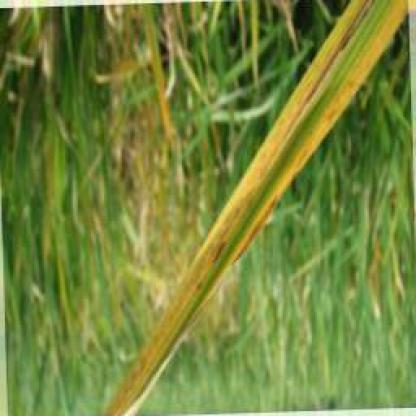Tungro: (113, 4, 407, 414)
